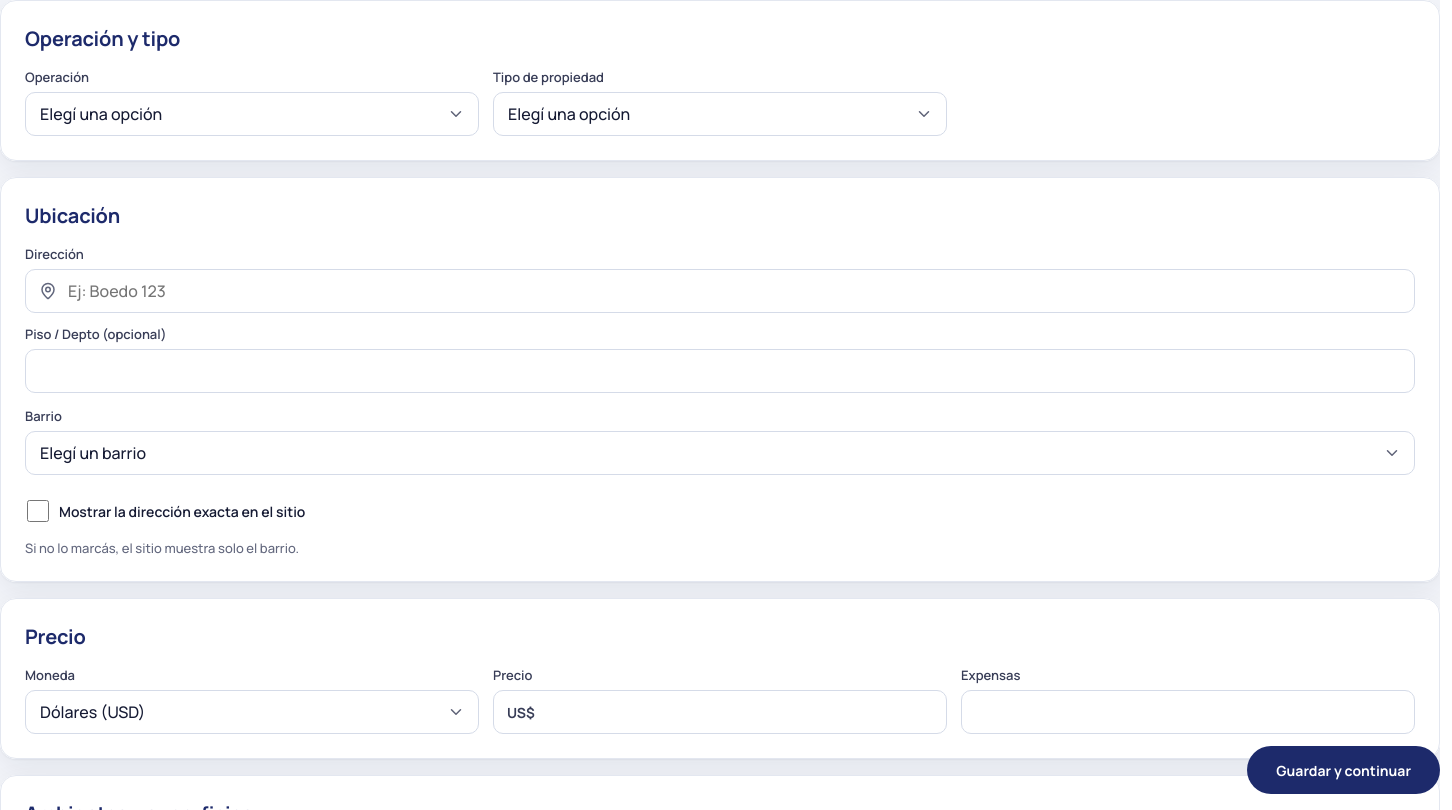
PropertyForm step datos › shows the currency symbol next to the price and follows the chosen currency
Expected: the element showing "US$" is shown, [493, 690, 947, 734]
Click the dropdown named "Moneda".
click(93, 712)  # box [25, 690, 479, 734]
(page scrolled)
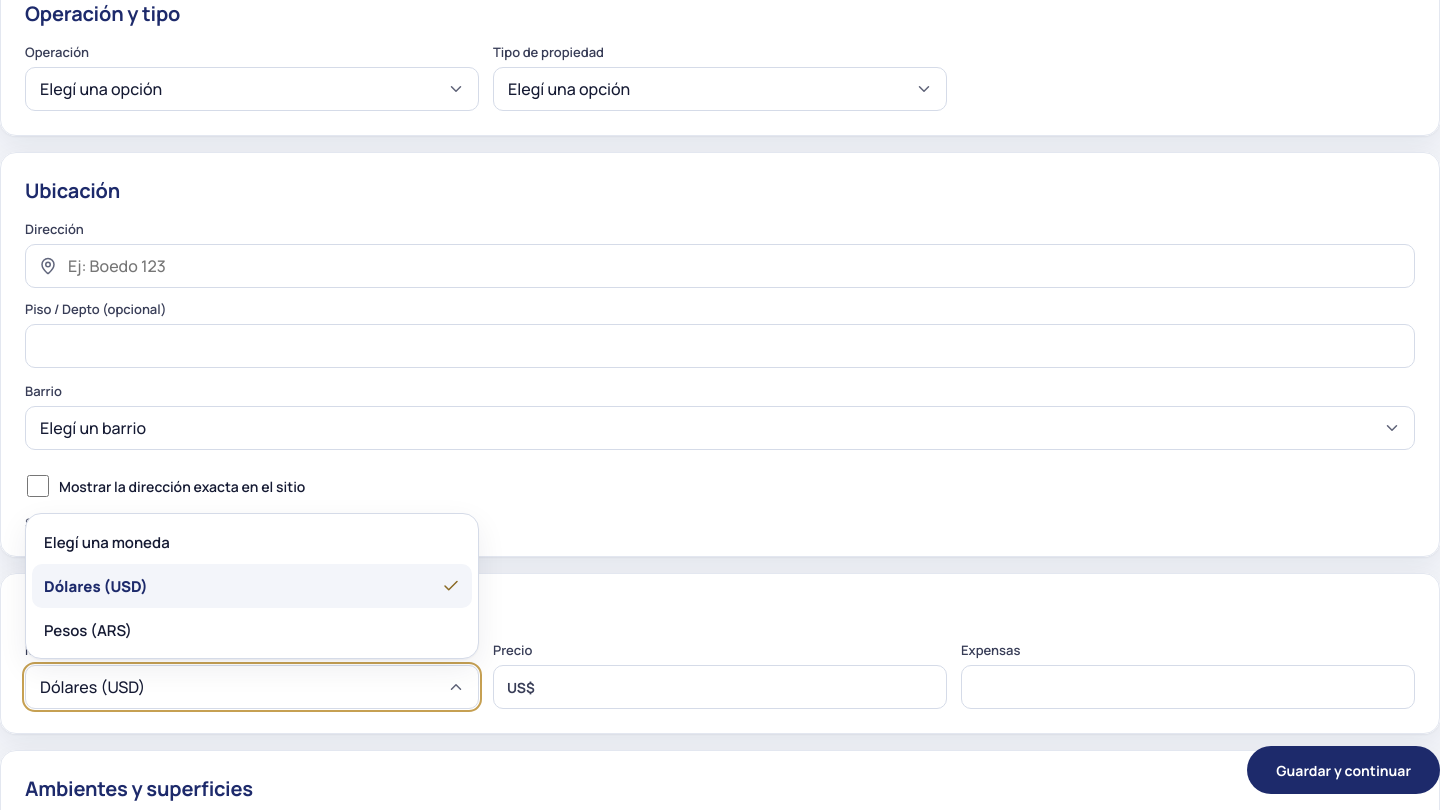
Click the option "Pesos (ARS)".
click(88, 630)  # box [44, 620, 132, 640]
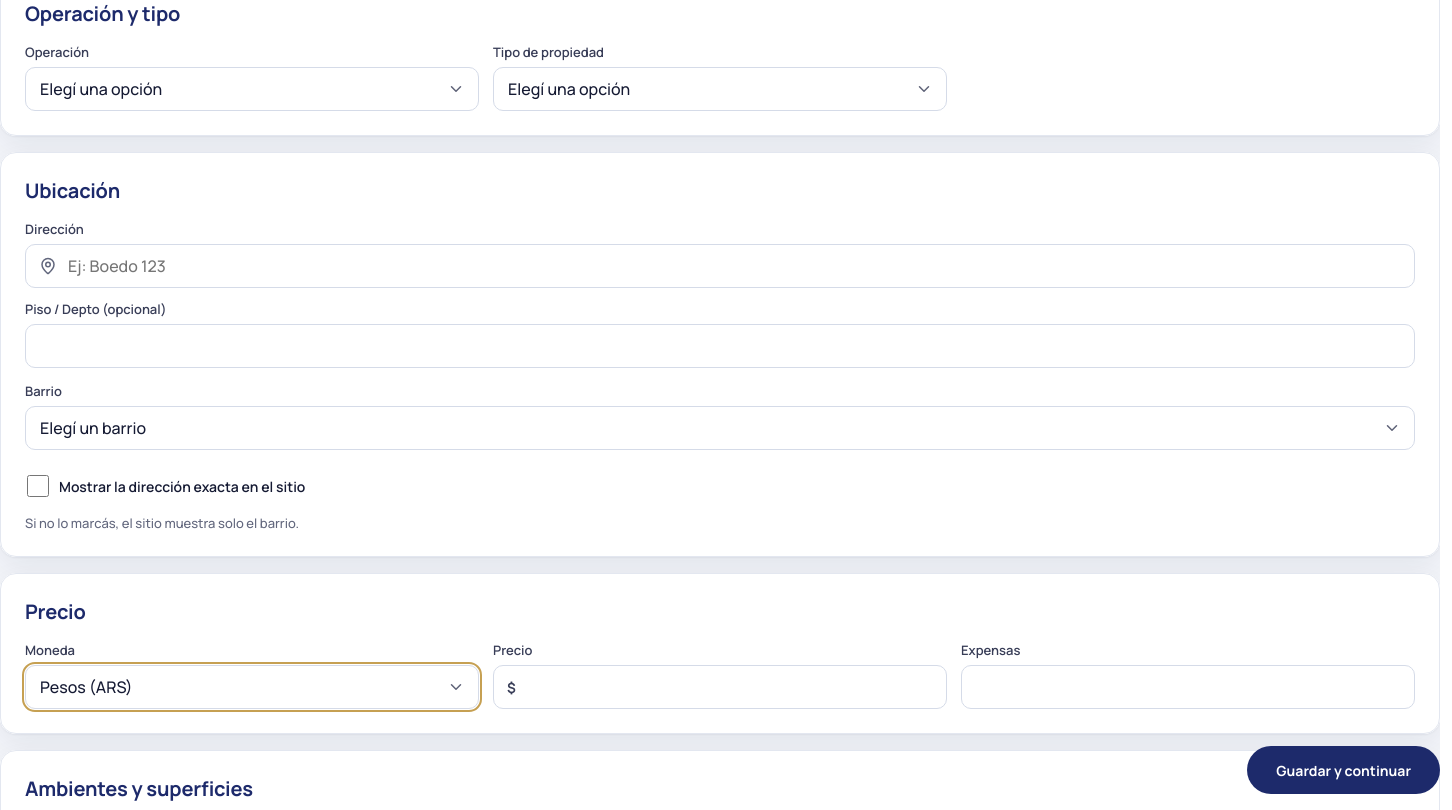
Expected: the element showing "$" no longer shows "US$", [493, 665, 947, 709]
